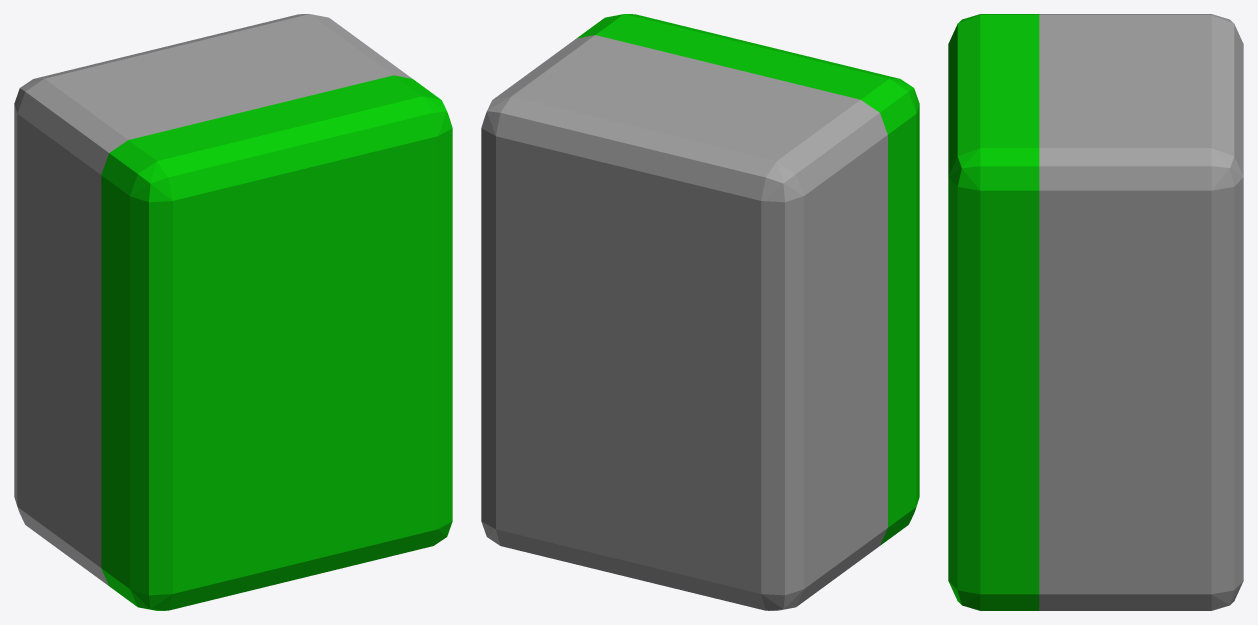
The model's file is tile.obj.
The picture shows the model from 3 angles, left to right: view 1: azimuth 30°, elevation 25°; view 2: azimuth 150°, elevation 25°; view 3: azimuth 270°, elevation 25°; orthographic projection. The views are drawn at different scales.
Visible parts, largest first — view 1: Cube_Cube.002; view 2: Cube_Cube.002; view 3: Cube_Cube.002.
Part boxes in pixels (<box>): Cube_Cube.002: <box>14,14,452,610</box>; Cube_Cube.002: <box>481,14,919,610</box>; Cube_Cube.002: <box>948,14,1243,610</box>.
Bounding box in the file's own units: 1.18 × 1.58 × 0.9182.
